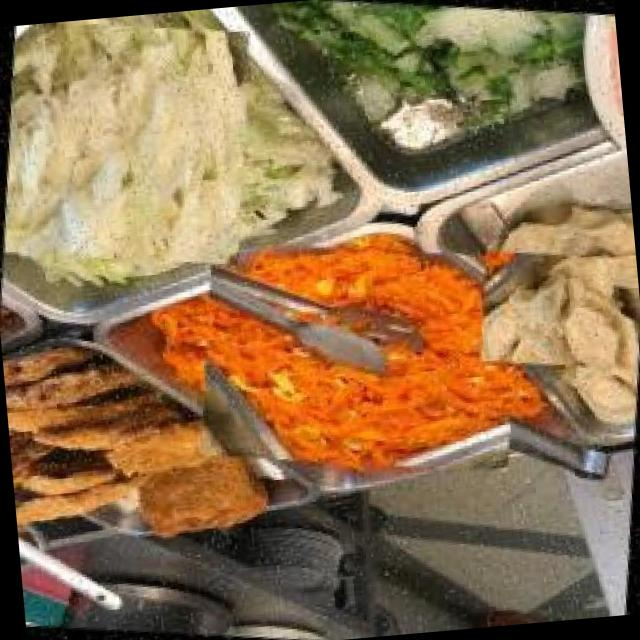carrot_eggs: (183, 215, 539, 498)
chinese_cabbage: (0, 5, 269, 285)
fried_dumplings: (487, 217, 640, 404)
